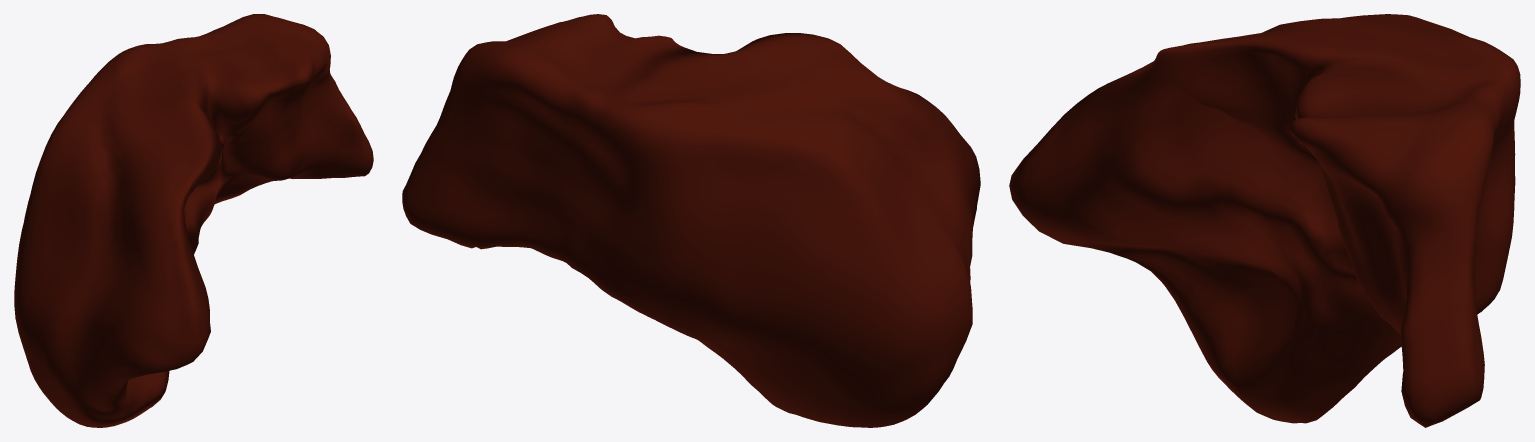
File: Liver.FBX
3 renders of one model, left to right at view 1: azimuth 30°, elevation 25°; view 2: azimuth 150°, elevation 25°; view 3: azimuth 270°, elevation 25°, orthographic. The views are drawn at different scales.
Parts seen in each view (by area): view 1: Liver-Snapshot; view 2: Liver-Snapshot; view 3: Liver-Snapshot.
Part boxes in pixels (left/top/right/bottom): Liver-Snapshot: left=14, top=14, right=373, bottom=427; Liver-Snapshot: left=402, top=14, right=980, bottom=427; Liver-Snapshot: left=1009, top=14, right=1520, bottom=427.
Size of the model in its own units: 226 by 166 by 177.
